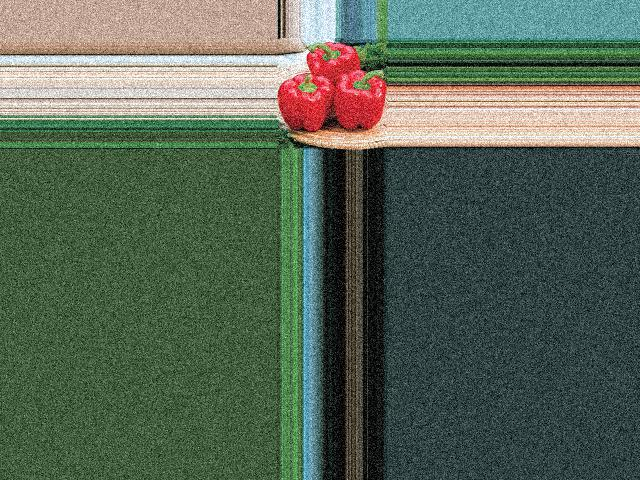bell_pepper: (326, 69, 385, 137)
